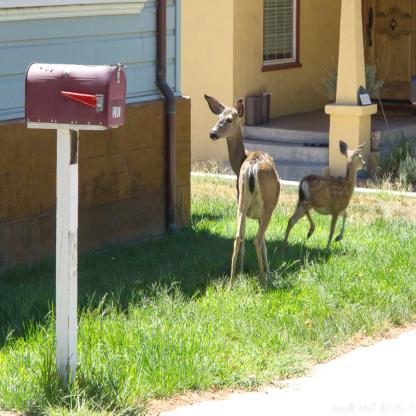Deer: (205, 97, 281, 291), (280, 143, 367, 250)
